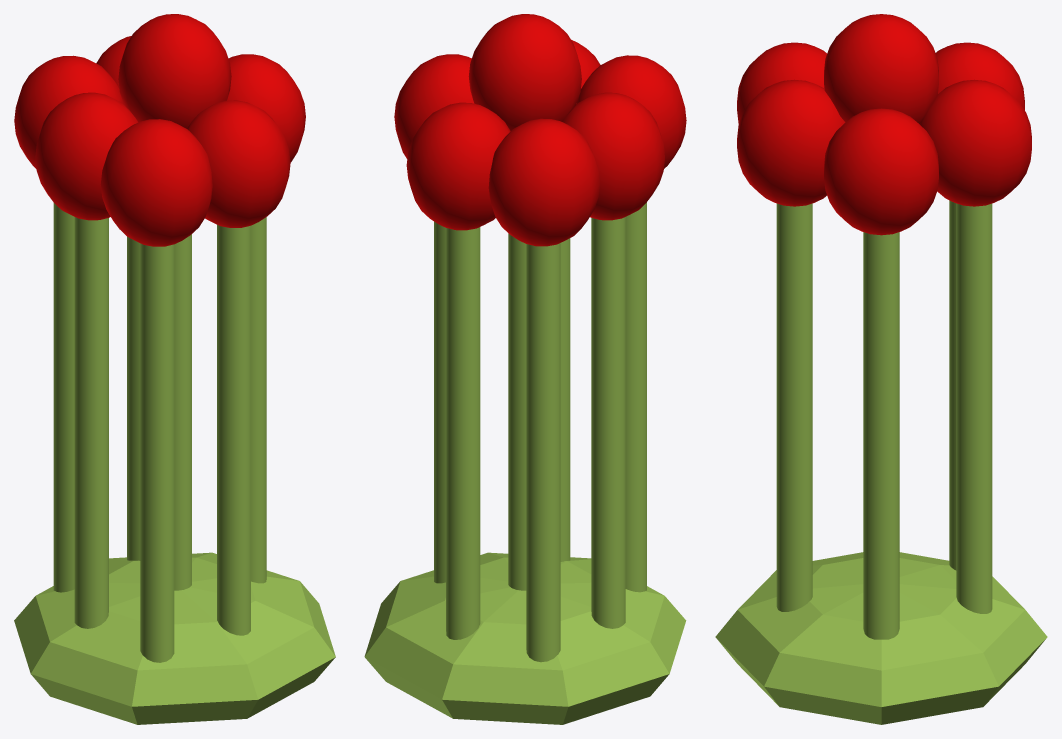
Rendered from poppy4.fbx.
3 renders of one model, left to right at view 1: azimuth 30°, elevation 25°; view 2: azimuth 150°, elevation 25°; view 3: azimuth 270°, elevation 25°, orthographic.
Visible parts, largest first — view 1: Stalk (×7), PoppyHead (×7), PoppyBase; view 2: Stalk (×7), PoppyHead (×7), PoppyBase; view 3: PoppyHead (×6), Stalk (×4), PoppyBase.
Boxes of the visible parts, bbox=[...] form: Stalk (×7): bbox=[53, 203, 266, 662]; PoppyHead (×7): bbox=[14, 14, 305, 246]; PoppyBase: bbox=[14, 552, 335, 724]; Stalk (×7): bbox=[434, 202, 646, 662]; PoppyHead (×7): bbox=[394, 14, 686, 246]; PoppyBase: bbox=[364, 552, 686, 724]; PoppyHead (×6): bbox=[737, 14, 1031, 235]; Stalk (×4): bbox=[776, 200, 992, 639]; PoppyBase: bbox=[715, 552, 1047, 724].
Bounding box in the file's own units: 3.12 × 6.97 × 3.12.
